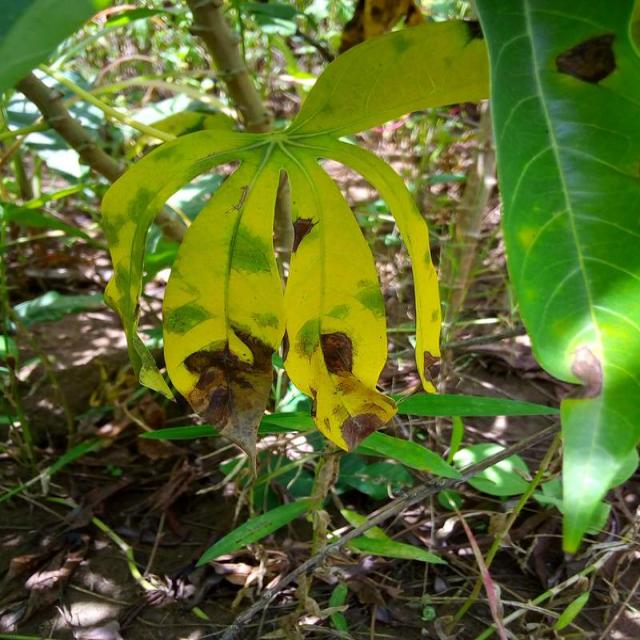cassava leaf: (100, 17, 490, 470), (471, 0, 639, 554)
